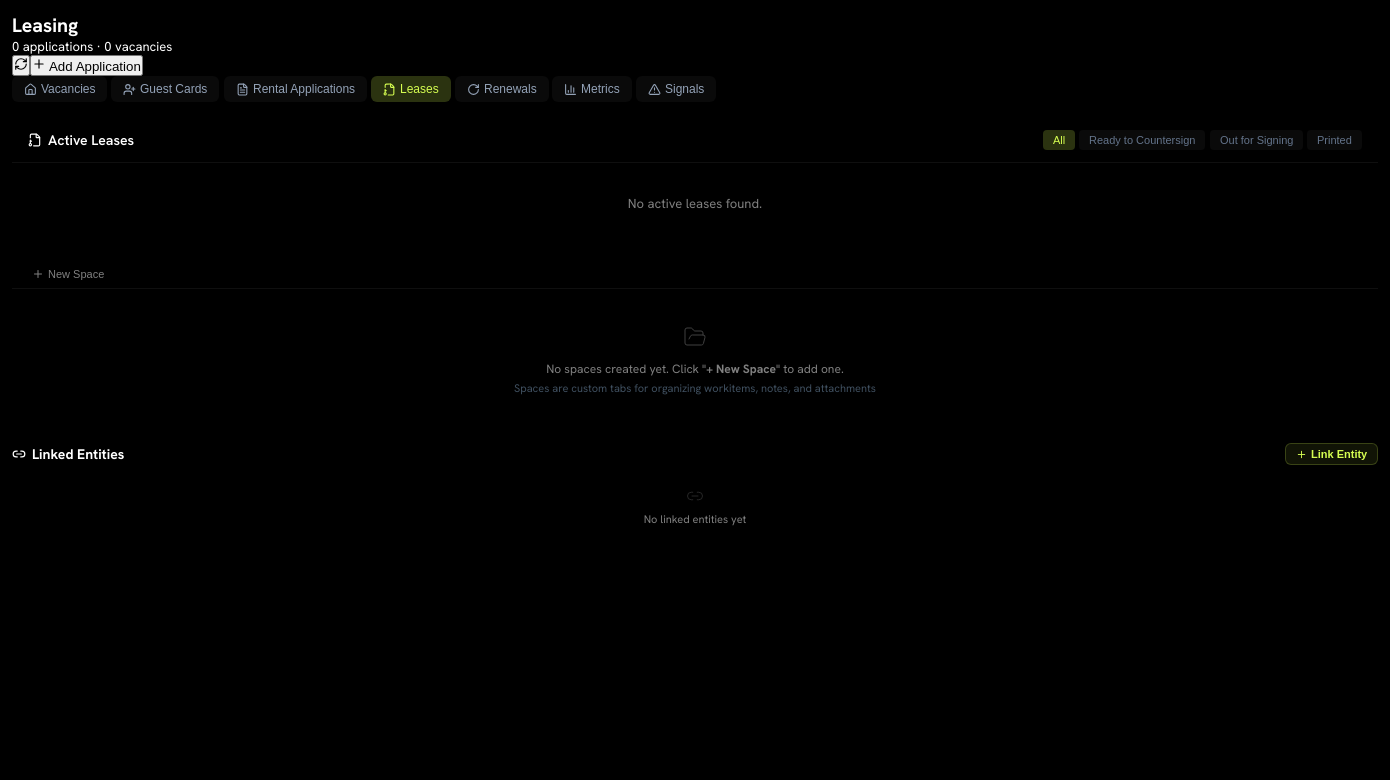
Test: LeasingModule · empty account → honest empty states, never the old hardcoded arrays › Guest Cards: "No guest cards yet." + Coming-soon chip, no fake prospects or bulk actions
This screenshot has width=1390, height=780.
Click the button "Guest Cards": {"x": 166, "y": 89} [112,76,220,102]
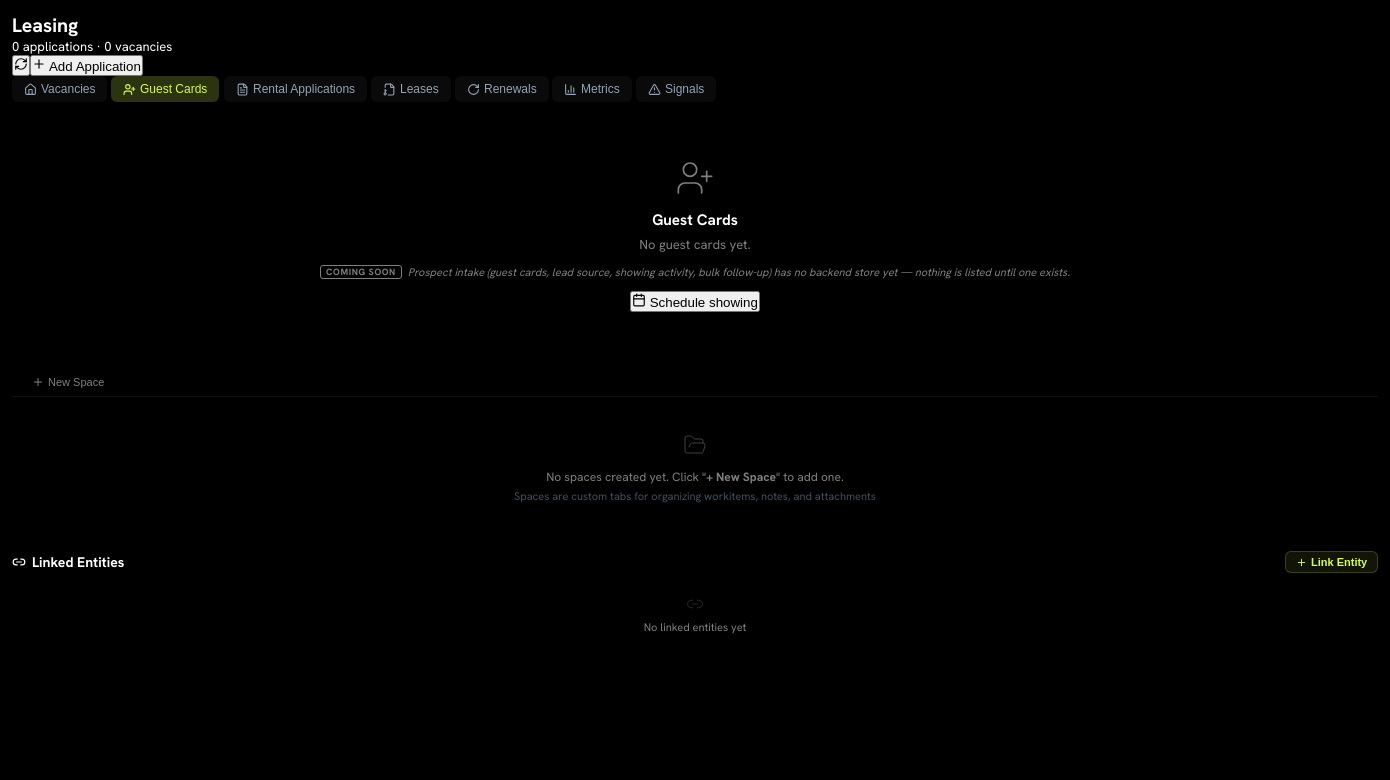
Expected: the text "No guest cards yet." is shown, [639,236,751,253]
Expected: the element that starts with "Coming soon" is shown, [326,266,396,278]
Expected: the button "Schedule showing" is shown, [630,291,760,312]
